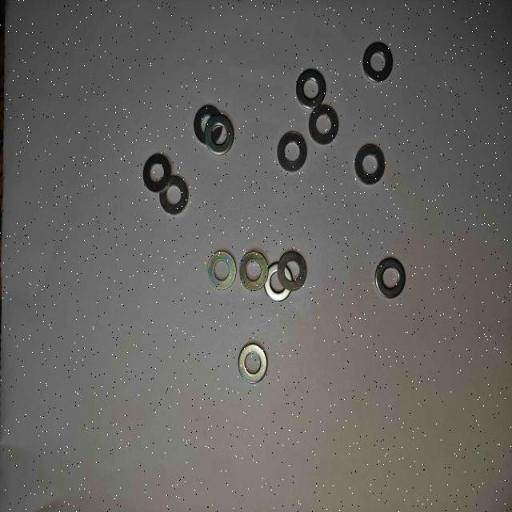Washer: (361, 40, 394, 83), (205, 248, 238, 291), (374, 256, 407, 299), (307, 104, 340, 146), (157, 173, 190, 215), (238, 248, 270, 291), (237, 341, 269, 384), (277, 248, 308, 292), (295, 67, 327, 109), (276, 130, 308, 172), (354, 143, 386, 185), (193, 104, 225, 146), (142, 152, 173, 194), (263, 260, 293, 303), (204, 115, 235, 155)
